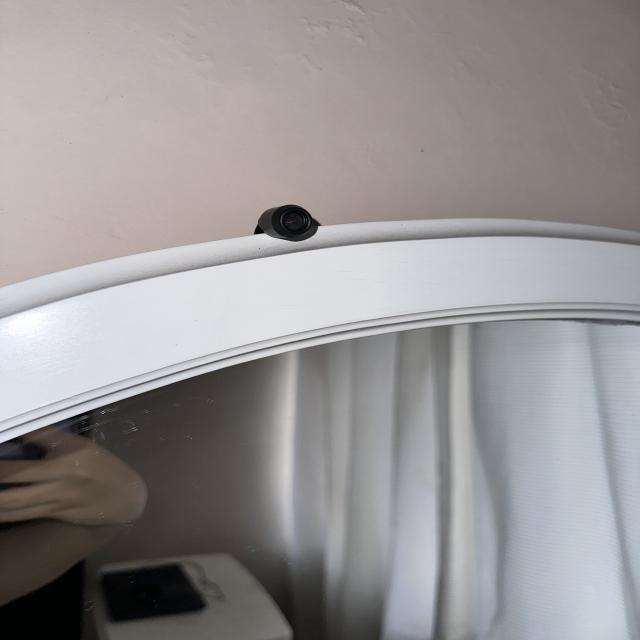hidden camera: (279, 207, 312, 236)
